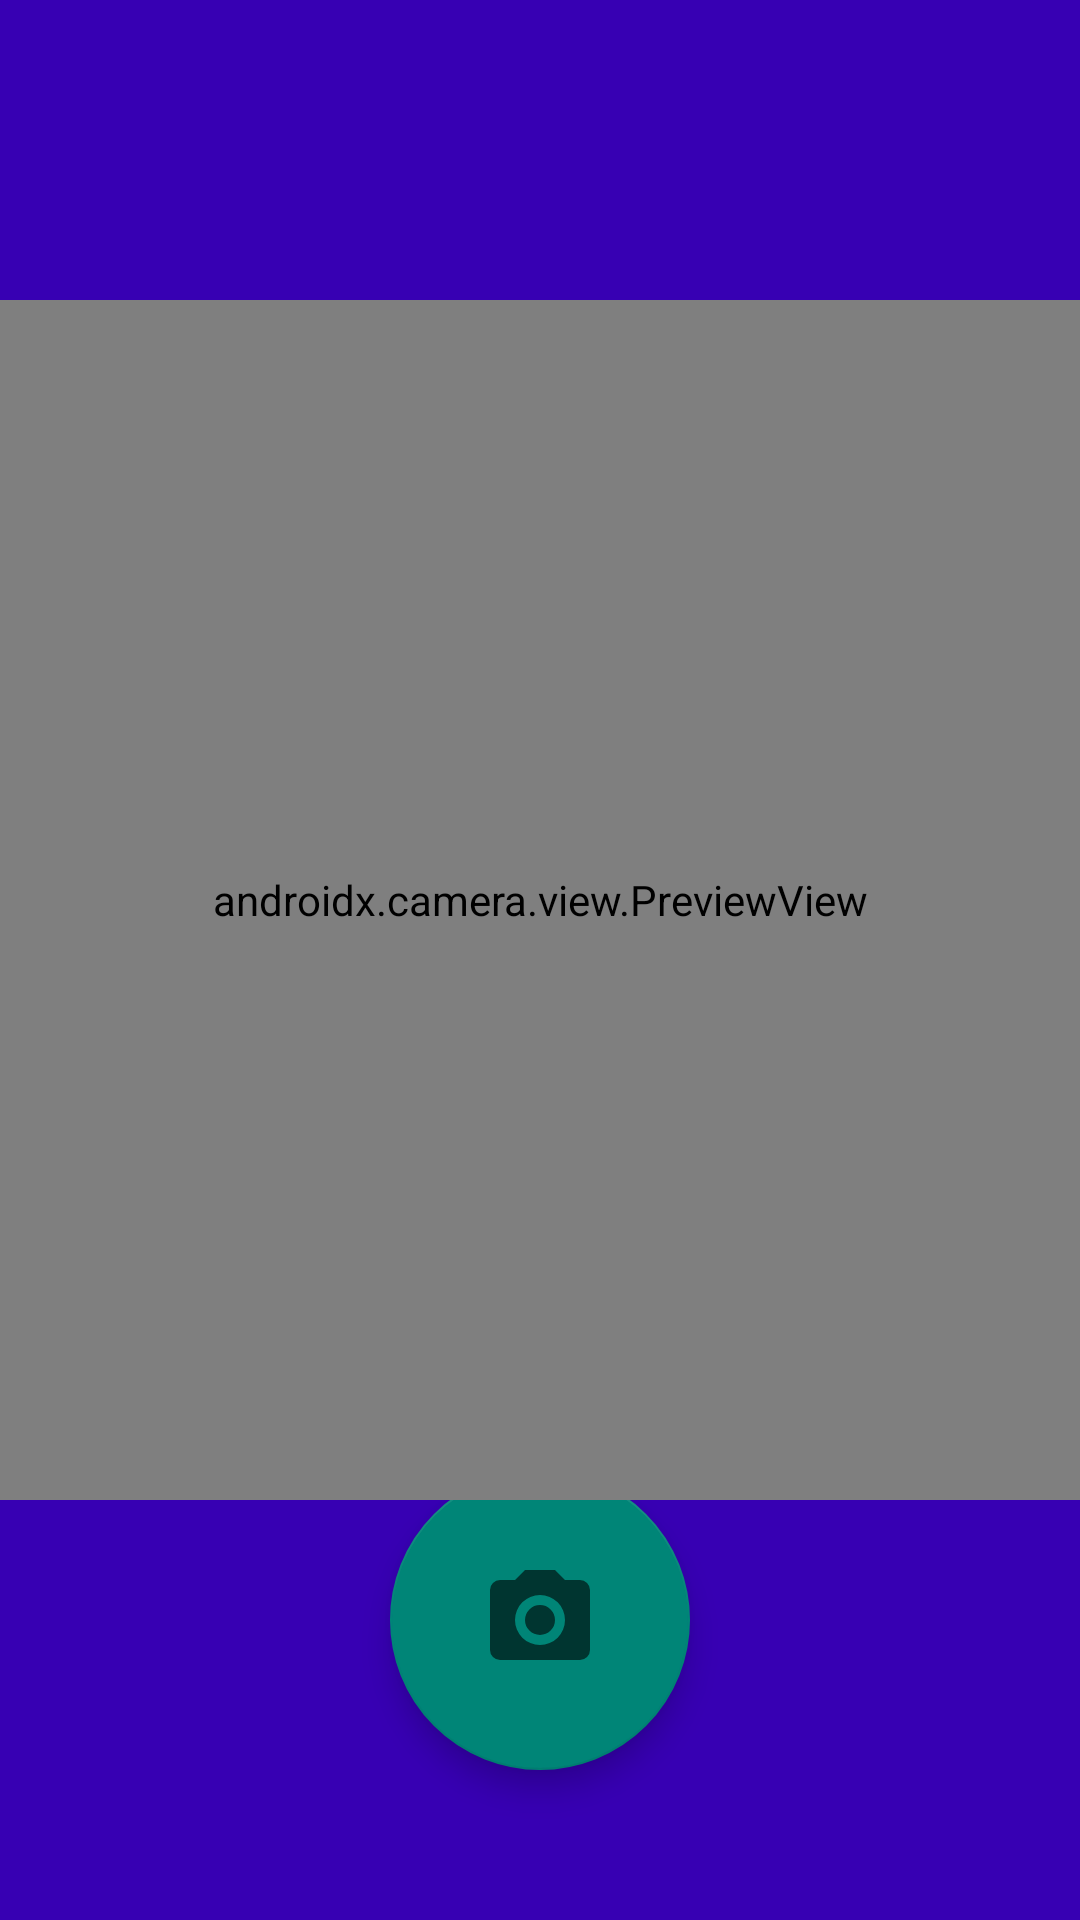

Icons on this 1080 x 1920 Android screen, each with the point to tap as (x,y):
photo: (540,1620)
